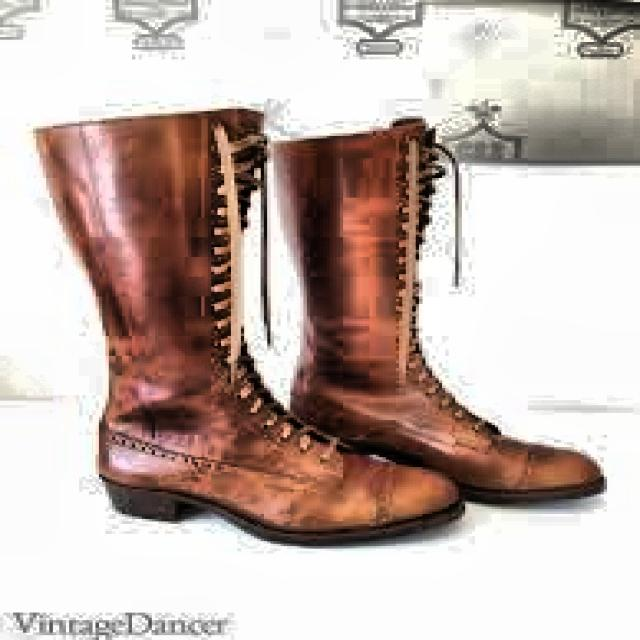shoes: (0, 81, 613, 556)
